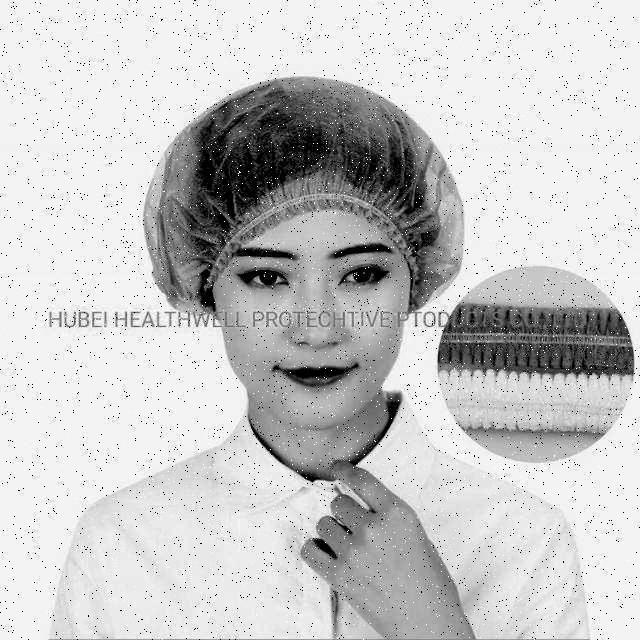no_apron: (291, 443, 538, 640)
no_hairnet: (240, 305, 390, 417)
